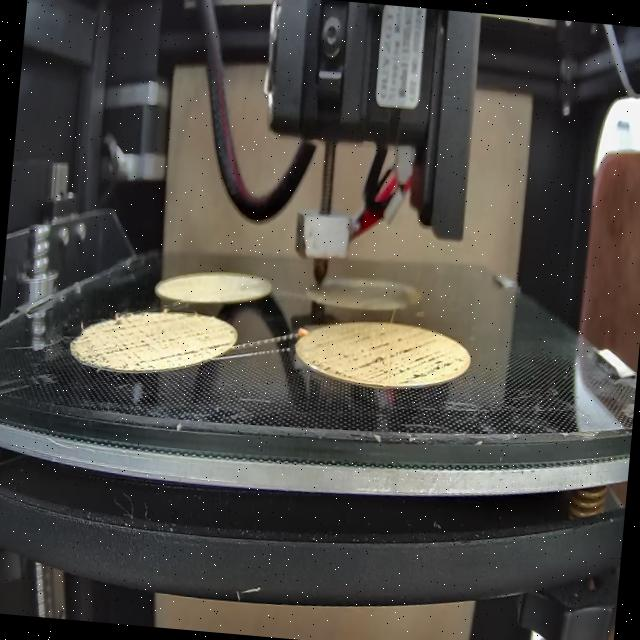under_extrusion: (307, 328, 468, 395), (80, 312, 234, 374)
